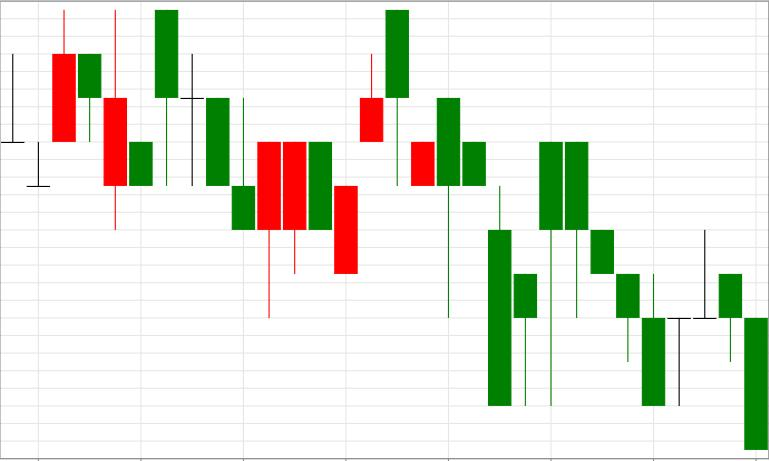inverse_hammer_rise: (154, 11, 255, 230)
